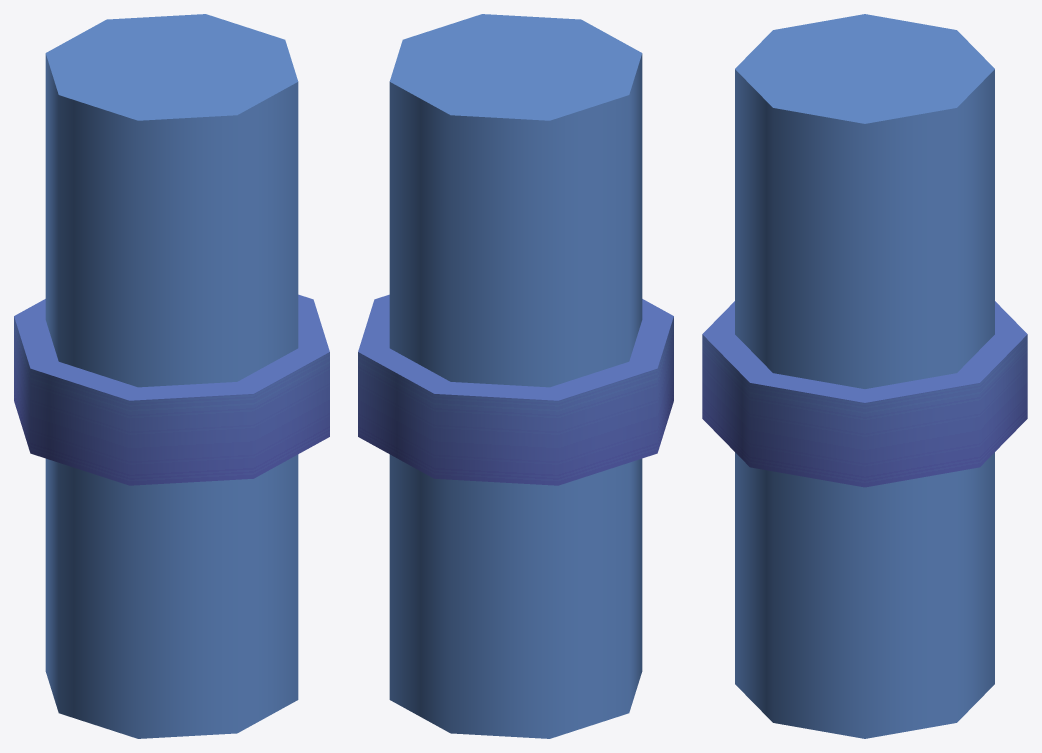
Rendered from support-large.glb.
3 renders of one model, left to right at view 1: azimuth 30°, elevation 25°; view 2: azimuth 150°, elevation 25°; view 3: azimuth 270°, elevation 25°, orthographic.
Visible parts, largest first — view 1: support-large; view 2: support-large; view 3: support-large.
Part boxes in pixels (left/top/right/bottom): support-large: left=14, top=14, right=329, bottom=738; support-large: left=358, top=14, right=673, bottom=738; support-large: left=702, top=14, right=1027, bottom=738.
Bounding box in the file's own units: 0.4794 × 1 × 0.4794.
Materials: 1 (1 with a texture image).
